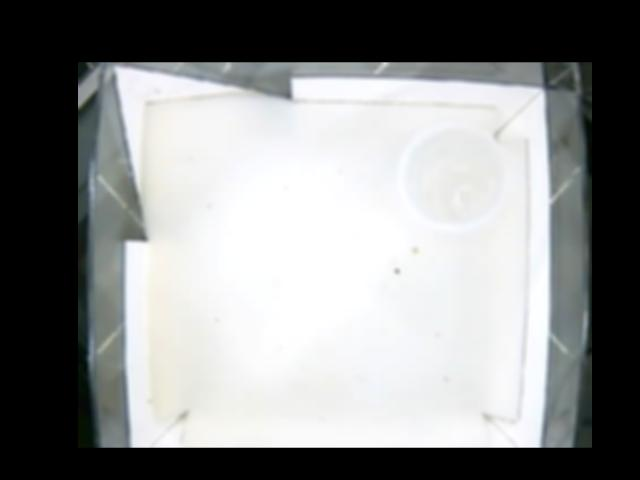Bottle: (394, 125, 506, 238)
